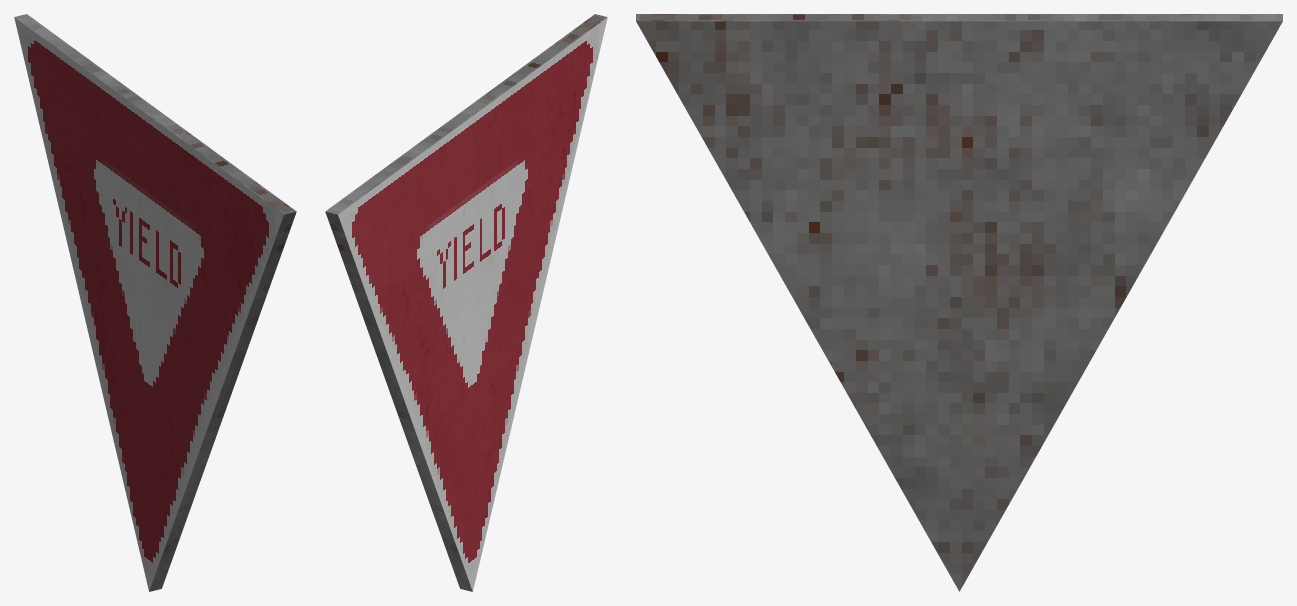
File: Sign_Yield_Plate.glb
3 views of the same model, side by side, from view 1: azimuth 30°, elevation 25°; view 2: azimuth 150°, elevation 25°; view 3: azimuth 270°, elevation 25° (orthographic). The views are drawn at different scales.
Parts seen in each view (by area): view 1: Sign_Yield_Plate; view 2: Sign_Yield_Plate; view 3: Sign_Yield_Plate.
Boxes of the visible parts, x1,y1,x2,y2 form: Sign_Yield_Plate: [14, 14, 296, 591]; Sign_Yield_Plate: [325, 14, 607, 591]; Sign_Yield_Plate: [636, 14, 1282, 591].
Size of the model in its own units: 0.0152 by 0.5425 by 0.5574.
1 material, 1 textured.
